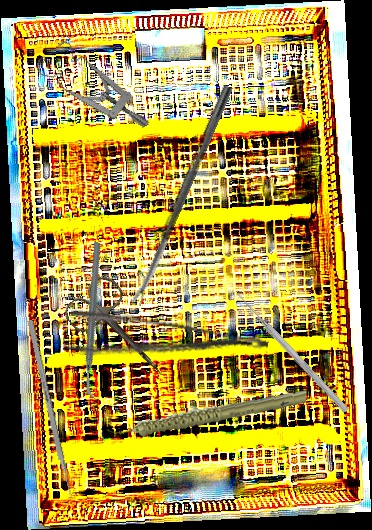Chopper: (30, 240, 160, 401)
Dressing Forceps: (64, 305, 270, 384)
Handpiece: (106, 378, 307, 447)
Iris Scissors: (59, 270, 184, 397)
Pusher: (233, 290, 351, 414), (26, 319, 77, 510)
Speculum: (30, 23, 152, 160)
Surgical Spoon: (130, 84, 233, 307)
